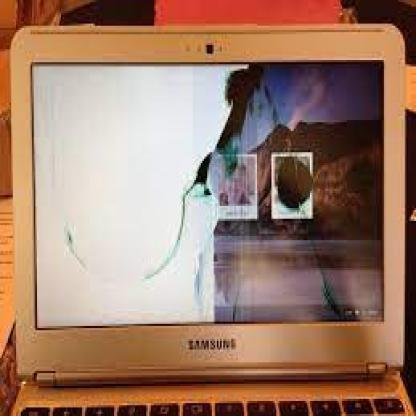crack: (141, 62, 267, 332)
